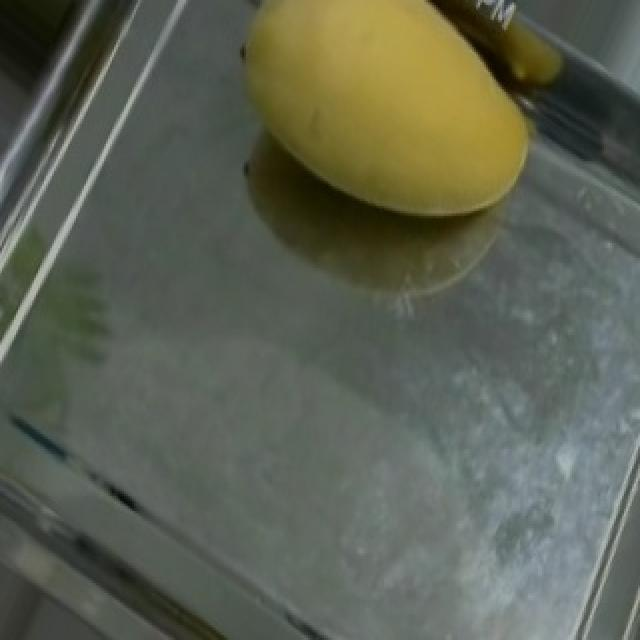fruit: (198, 2, 568, 283)
